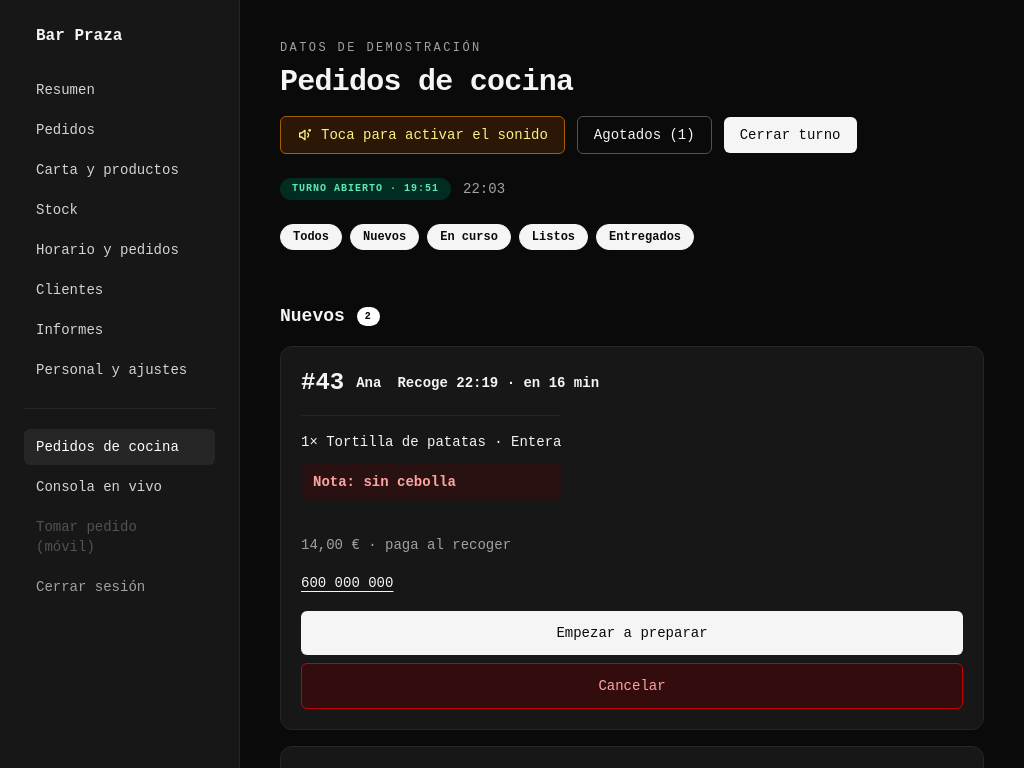
Test case: Cerrar turno › asks first and keeps the shift open on No
Click the button "Cerrar turno". click: [790, 135]
box: [724,117,856,153]
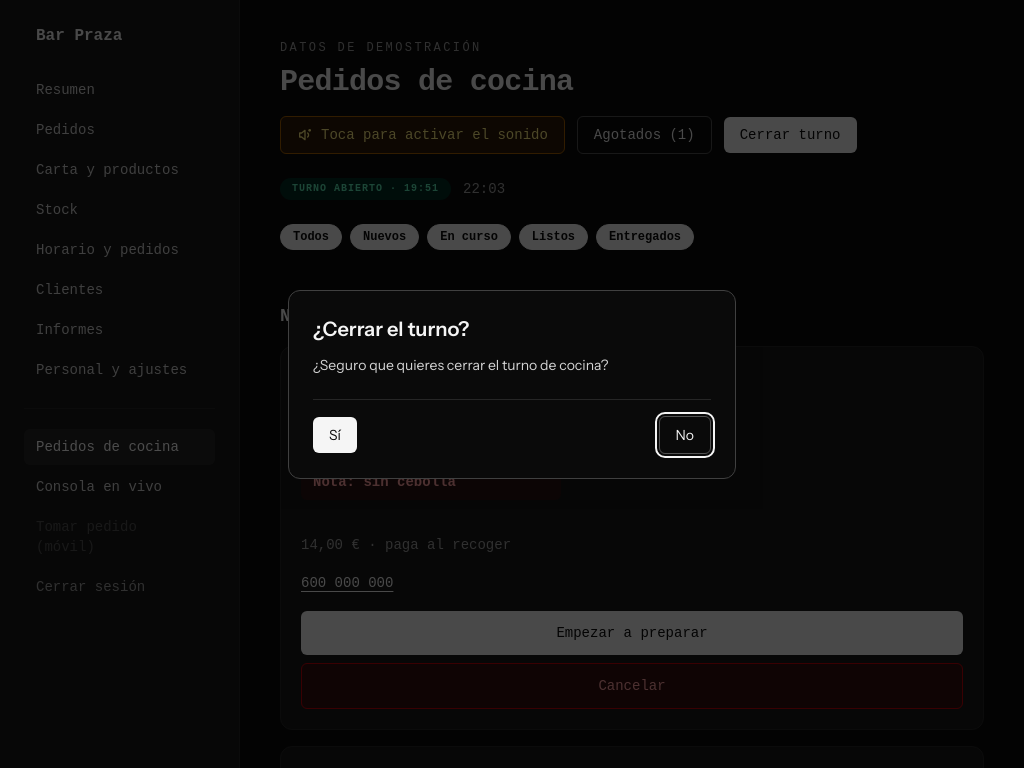
Click the button "No". click: [685, 434]
box: [658,416,711,454]
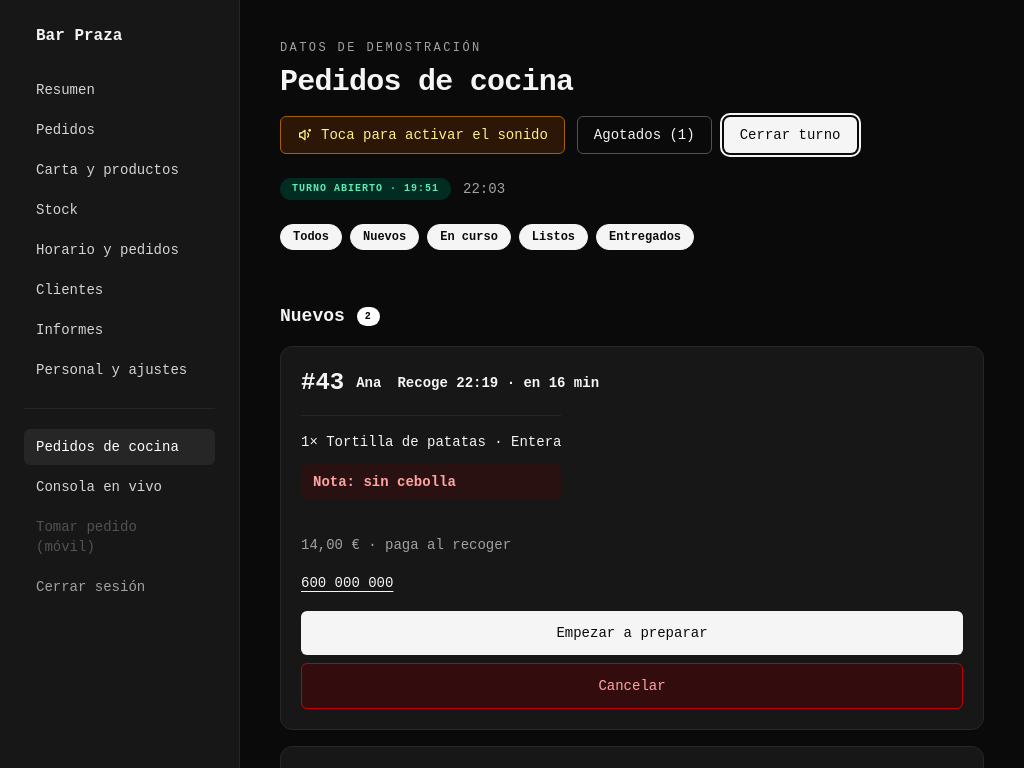
Expected: the text "Turno abierto · 19:51" is shown, [280,178,451,200]
Expected: the dialog is gone
